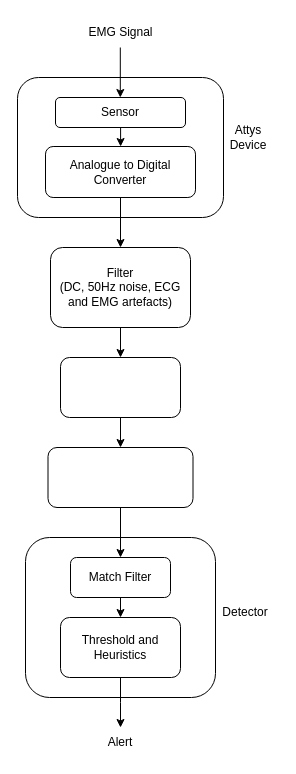
The diagram is 296 pixels wide and 774 high, and some of its shapes have lost their labels. Each missing label, with the centre of its shape:
"Real time plot (Unfiltered & Filtered)" goes at pixel 120 477.
"Sampling Frequency Detection" goes at pixel 120 387.
